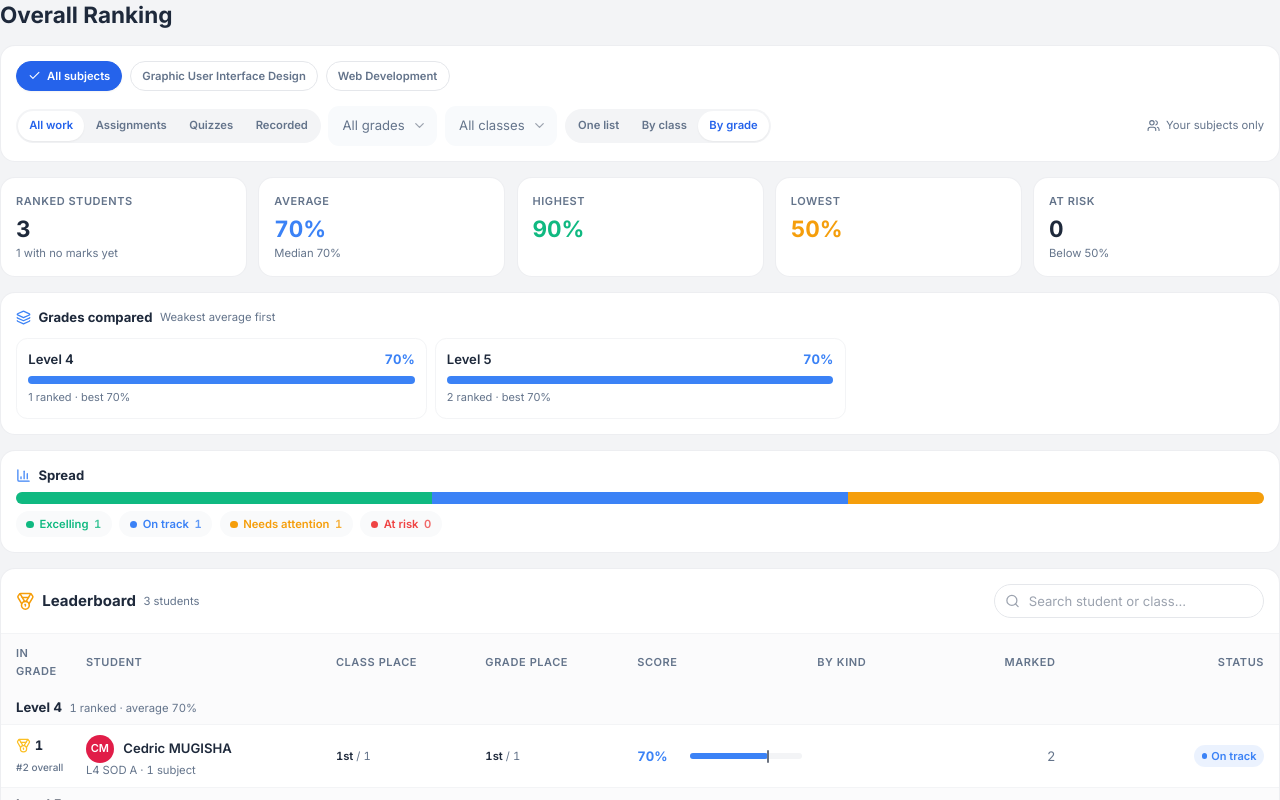
Test case: Overall Ranking — staff › groups by grade and opens one grade from its card
Check: the heading "Grades compared" is shown, box left=38, top=308, right=152, bottom=326
Check: the column heading "In grade" is shown, box left=1, top=634, right=78, bottom=690
What coordinates should you click on to do the following:
click the button "Level 5 70% 2 ranked · best 70%"
I would click on:
 (640, 378)
Its box is left=434, top=338, right=846, bottom=419.
(page scrolled)
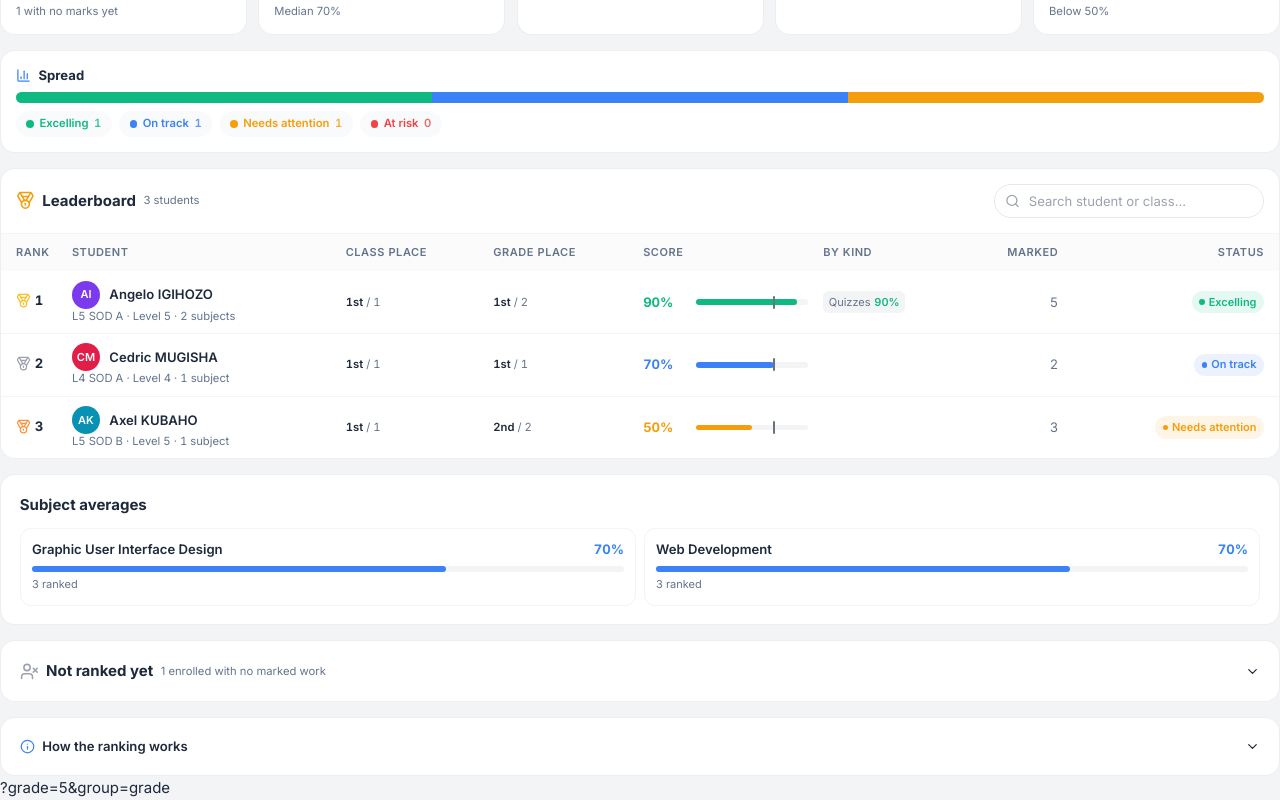
Check: the text with test id "location" reads "?grade=5&group=grade", box left=0, top=778, right=170, bottom=797
